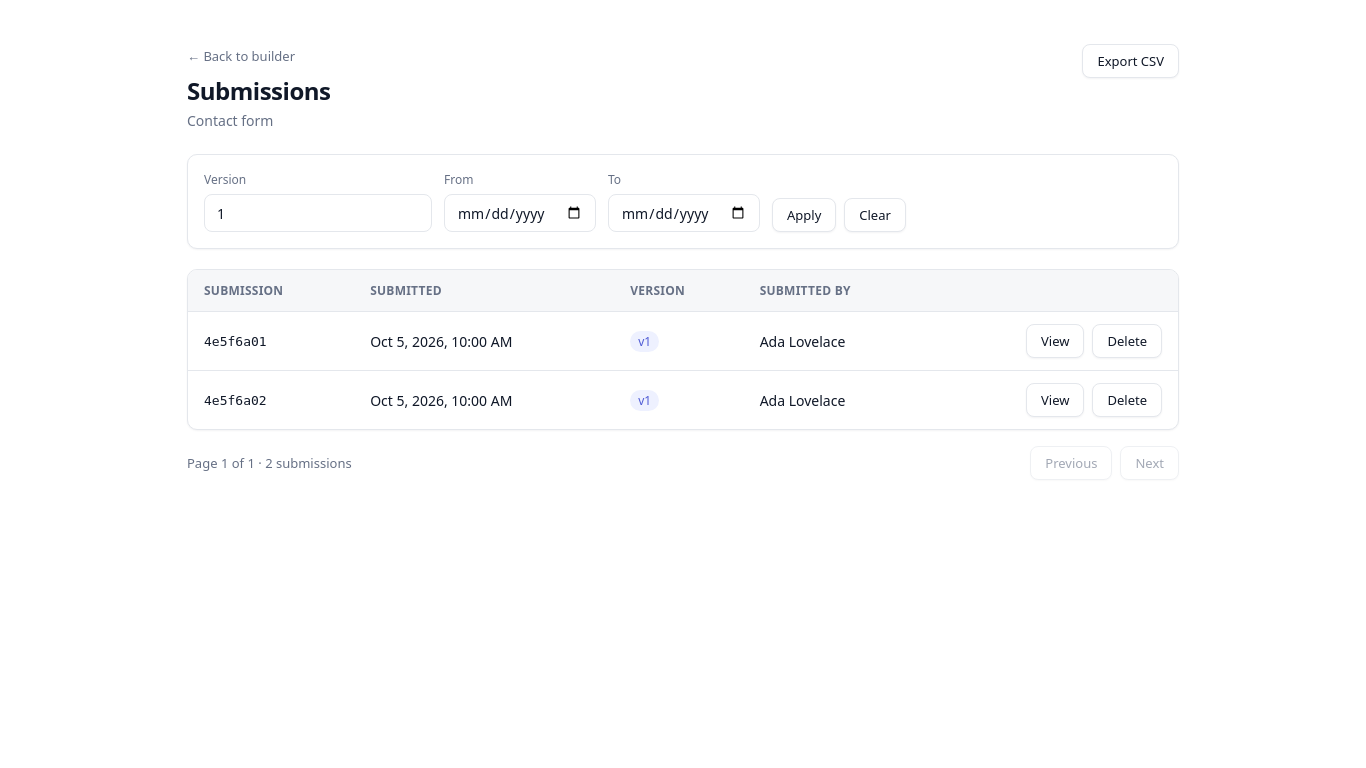
Test: deleting from the submissions list › deletes the right submission, shows progress, sends one request, then refreshes the list
Check: the table is shown, box [188, 270, 1178, 429]
Click the button "Delete" in the row of "4e5f6a02".
click(1127, 400)  # box [1092, 383, 1162, 417]
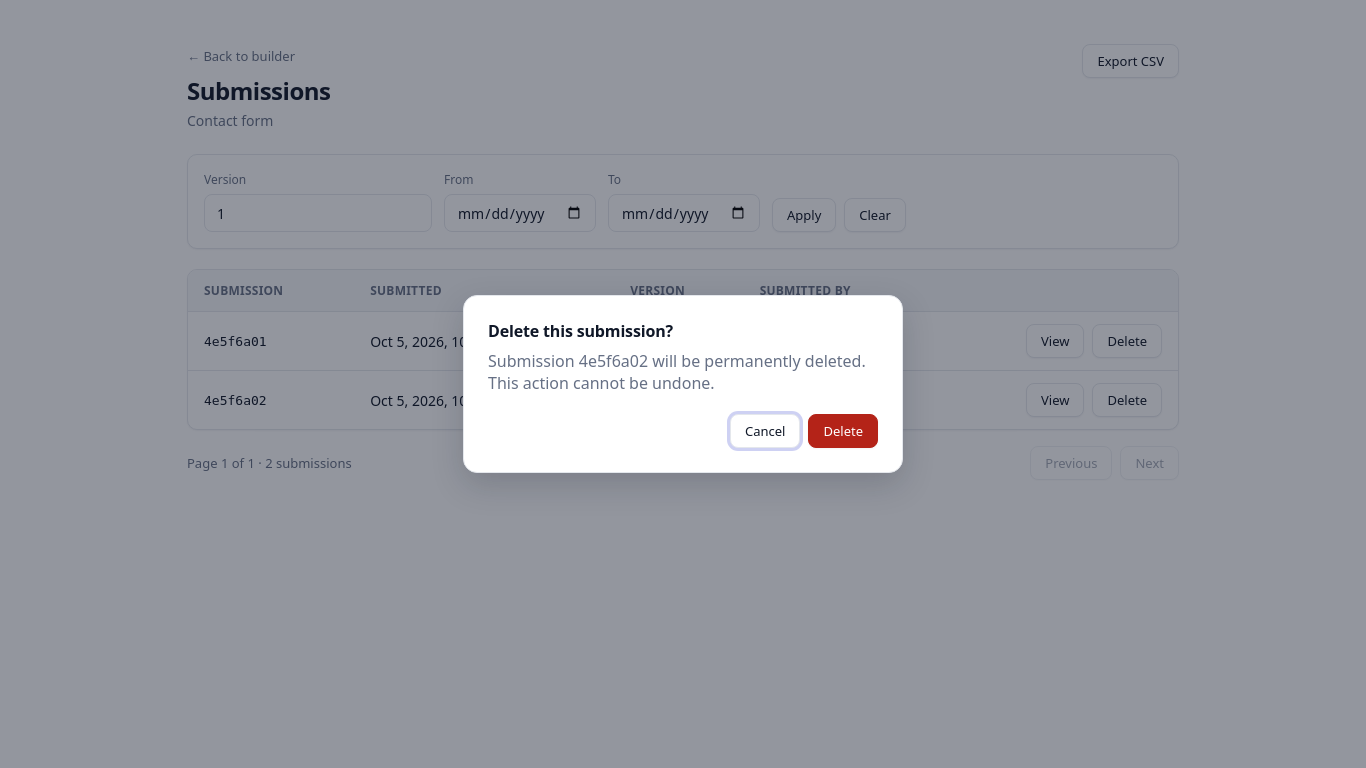
Click the button "Delete".
click(843, 431)  # box [808, 414, 878, 448]
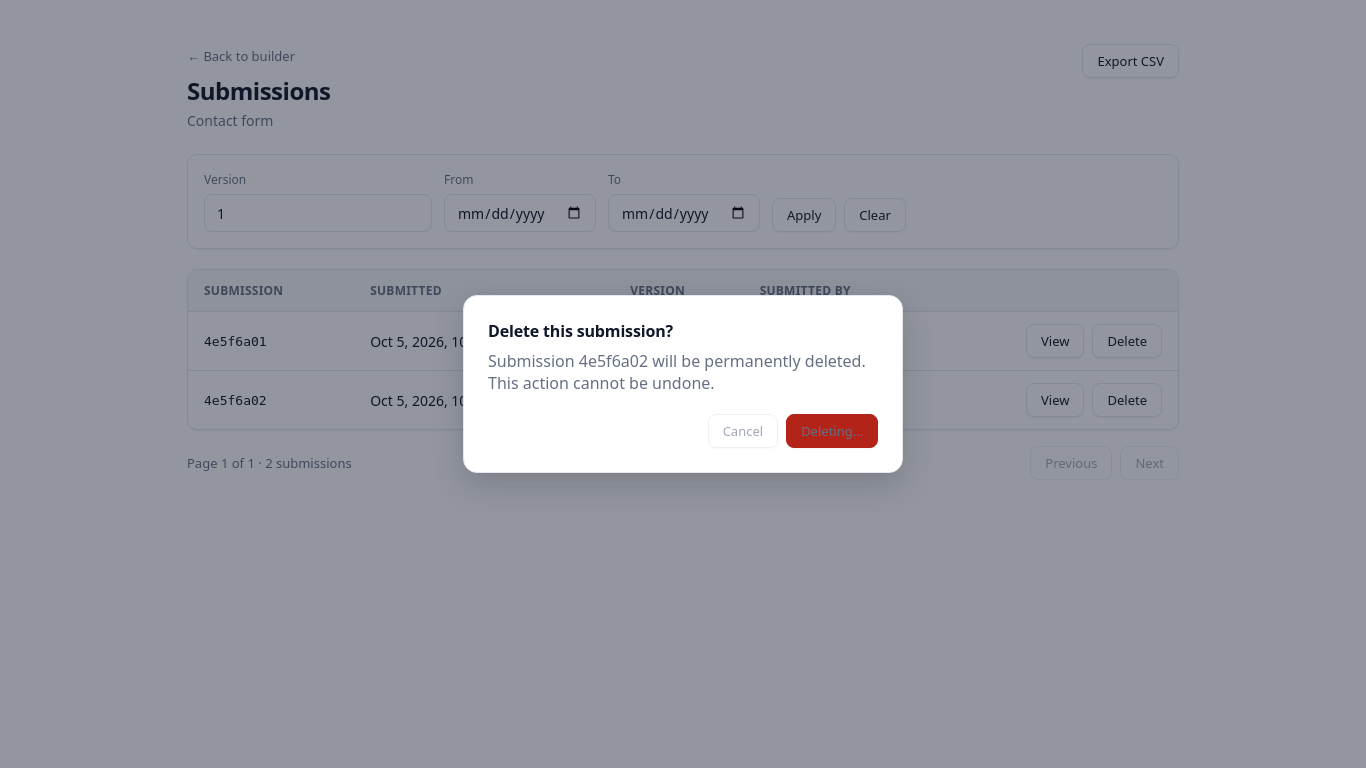
Click the button named "Delete".
click(832, 431)  # box [786, 414, 878, 448]
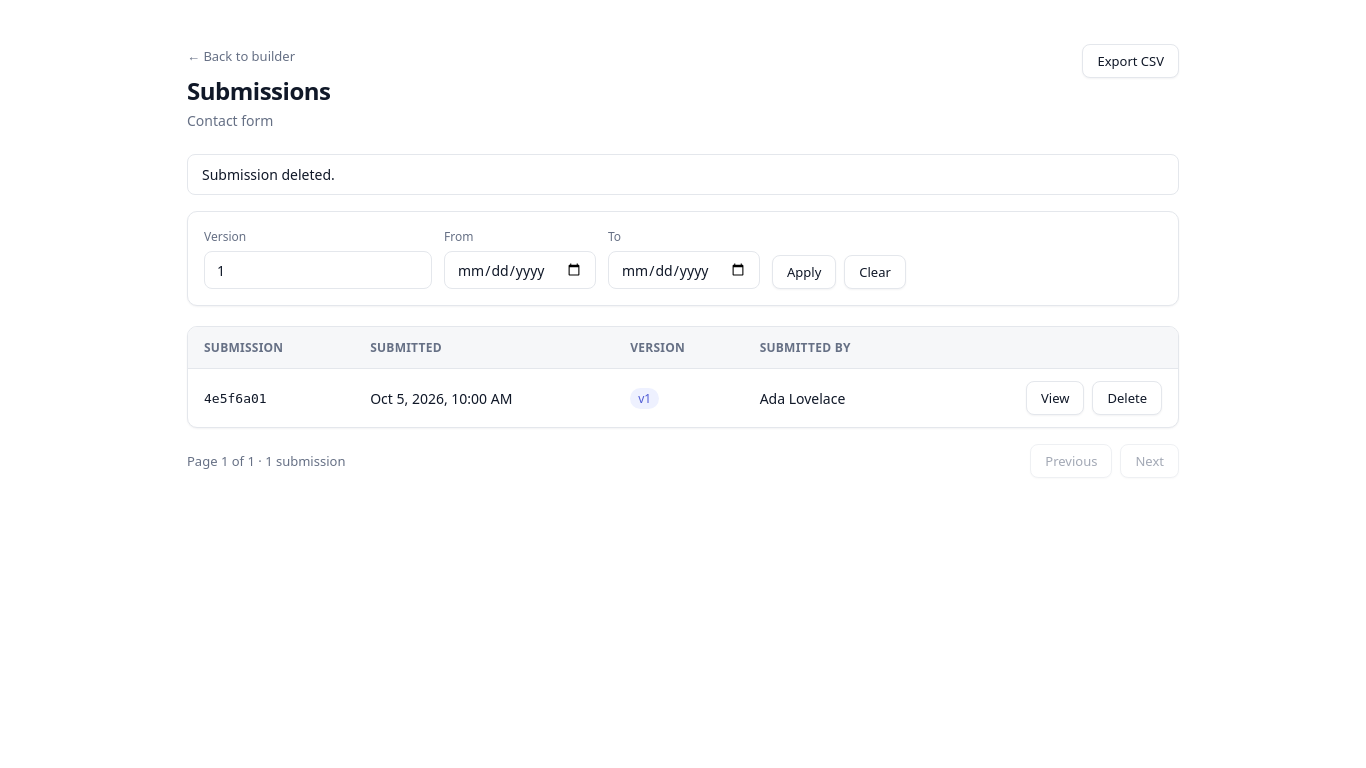
Check: the dialog is gone
Check: the text "Submission deleted." is shown, box [187, 154, 1179, 195]
Check: the number of rows is 2, box [188, 327, 1178, 368]; [188, 369, 1178, 427]
